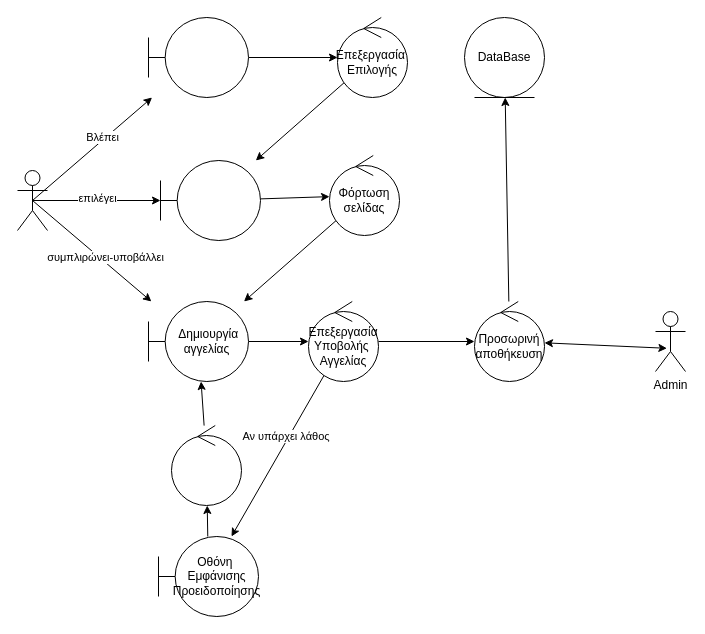
This 705x634 diagram has some shape labels left out. Here are the shapes that lost their labels. From the top down, the centre of each, then its label:
At pixel 198 57: "Menu Bar".
At pixel 32 200: "User".
At pixel 210 200: "House Icon".
At pixel 206 465: "Εμφάνιση Οθόνης".
